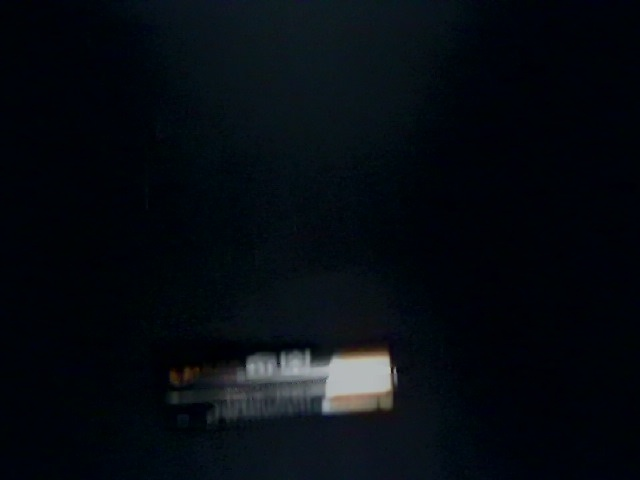QTLJ: (23, 94, 212, 302)
